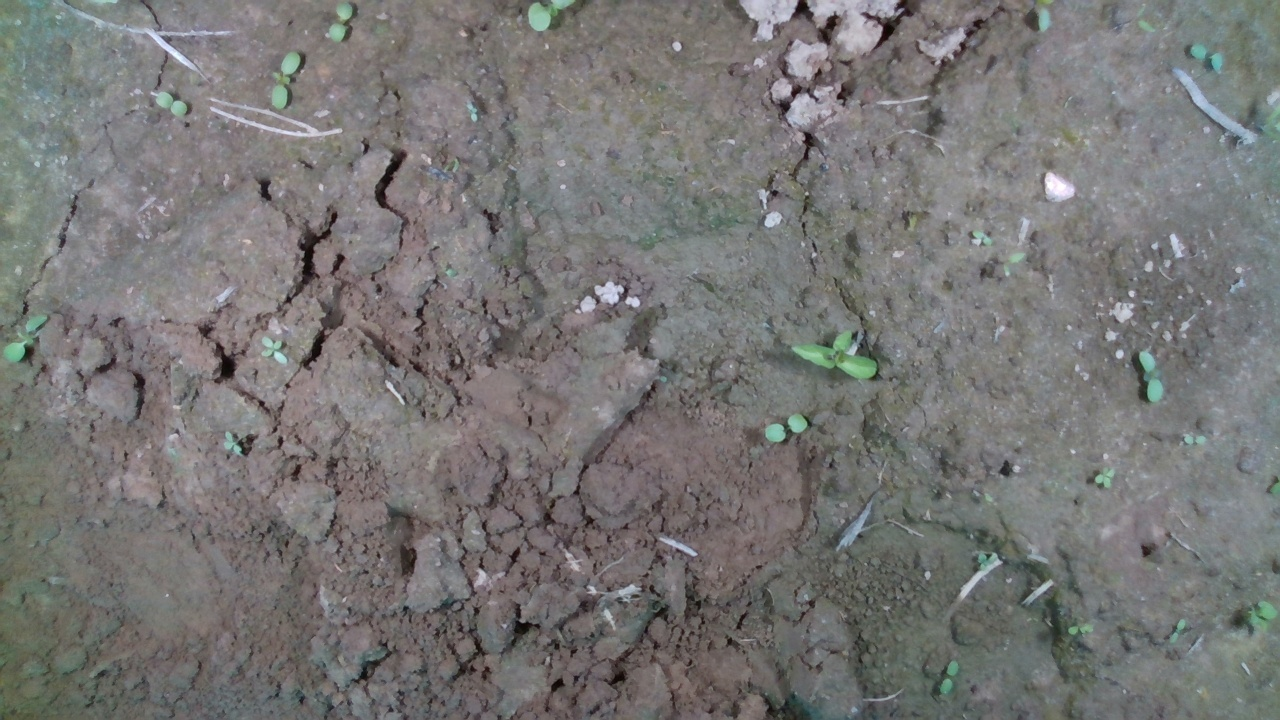weed: (789, 327, 879, 379), (269, 49, 302, 110), (1137, 348, 1165, 404), (763, 412, 809, 443), (323, 1, 354, 45), (1189, 41, 1226, 73), (154, 90, 189, 119), (259, 335, 288, 365), (939, 659, 960, 695), (221, 430, 243, 460), (1093, 464, 1116, 491), (1167, 616, 1188, 644), (1066, 620, 1095, 636), (1181, 433, 1209, 447)
